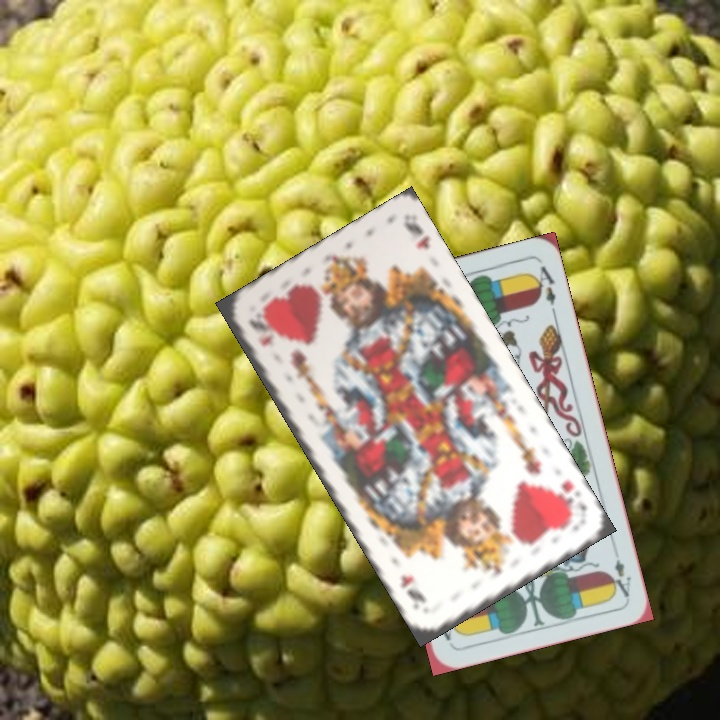EA: (605, 553, 634, 600)
HK: (557, 476, 590, 519), (245, 314, 274, 349)
